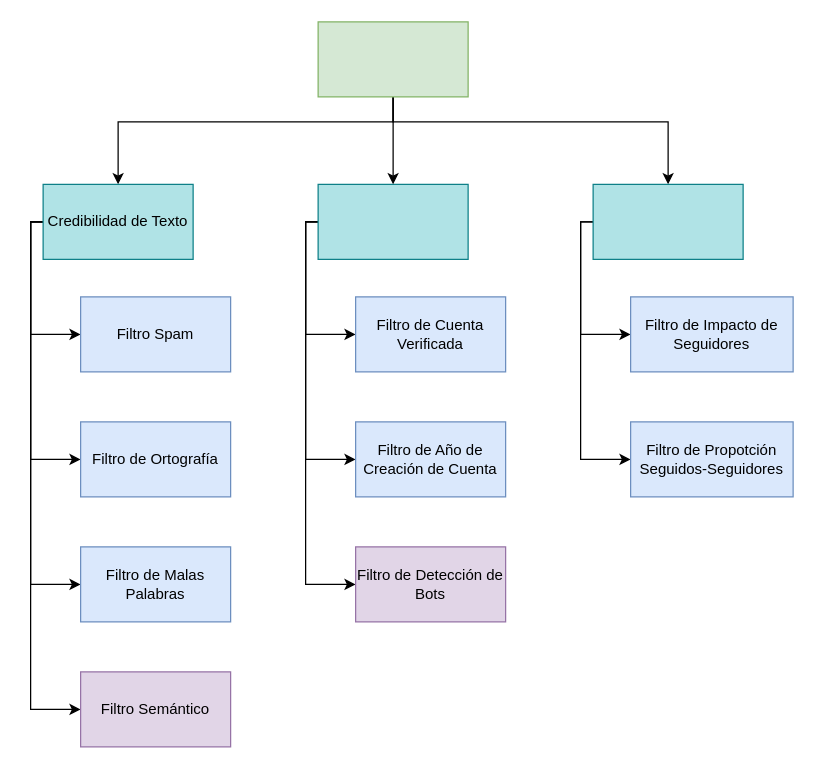
Some shapes in this 815 by 769 pixel diagram are drawn without their labels. The box of each missing label's shape, as (x1, y1, x2, y2) in pixels:
Credibilidad de Usuario: (317, 183, 468, 259)
Credibilidad Social: (592, 183, 743, 259)
Modelo de Credibilidad Global: (317, 21, 468, 97)
